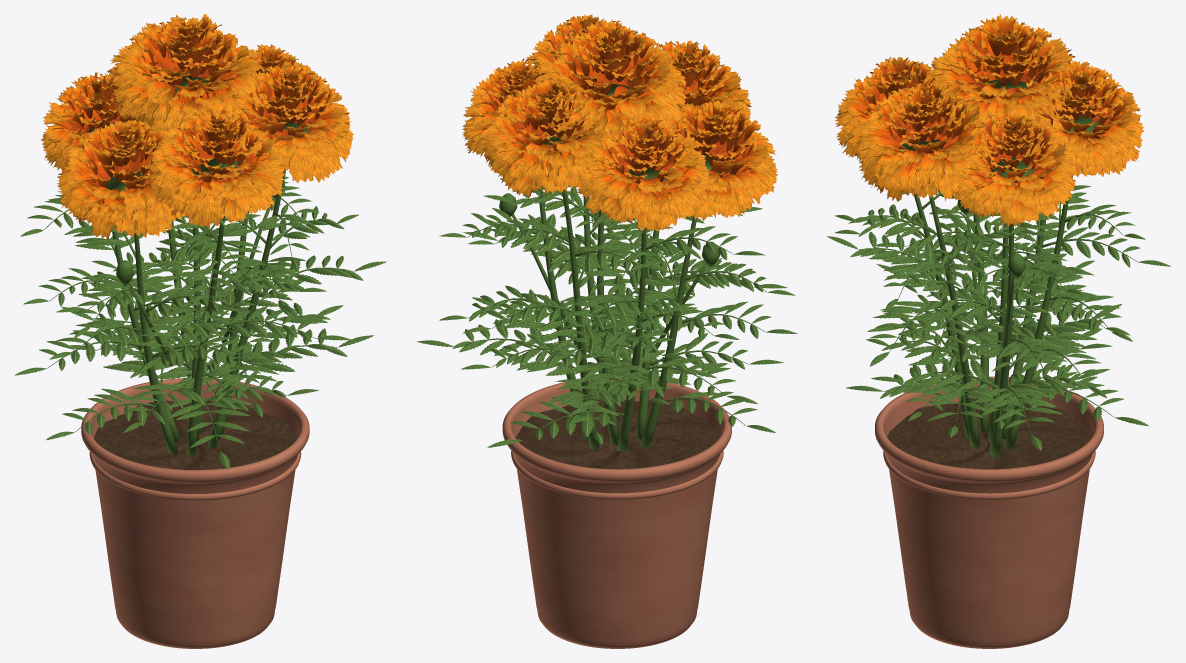
File: maceta_cempasuchil.gltf
The picture shows the model from 3 angles, left to right: view 1: azimuth 30°, elevation 25°; view 2: azimuth 150°, elevation 25°; view 3: azimuth 270°, elevation 25°; orthographic projection.
Visible parts, largest first — view 1: Maceta_cuerpo_hueco, Tierra_superficie, Flor_01_Capa_03, Flor_06_Capa_03, Flor_01_Capa_05, Flor_06_Capa_04, Flor_01_Capa_04, Flor_06_Capa_05, Flor_01_Capa_06, Flor_05_Capa_03, Flor_07_Capa_05, Flor_06_Capa_02 (+63 smaller); view 2: Maceta_cuerpo_hueco, Tierra_superficie, Flor_04_Capa_03, Flor_01_Capa_05, Flor_01_Capa_03, Flor_03_Capa_03, Flor_03_Capa_02, Flor_04_Capa_02, Flor_03_Capa_04, Flor_01_Capa_04, Flor_01_Capa_06, Flor_04_Capa_05 (+63 smaller); view 3: Maceta_cuerpo_hueco, Tierra_superficie, Flor_01_Capa_05, Flor_07_Capa_04, Flor_01_Capa_04, Flor_07_Capa_03, Flor_02_Capa_03, Flor_07_Capa_05, Flor_02_Capa_04, Flor_01_Capa_06, Flor_01_Capa_03, Flor_02_Capa_02 (+68 smaller).
Part boxes in pixels (x1,y1,x2,y2): Maceta_cuerpo_hueco: (81, 378, 309, 648); Tierra_superficie: (94, 400, 296, 469); Flor_01_Capa_03: (111, 49, 262, 122); Flor_06_Capa_03: (147, 139, 284, 213); Flor_01_Capa_05: (124, 27, 250, 97); Flor_06_Capa_04: (151, 130, 281, 198); Flor_01_Capa_04: (116, 45, 259, 108); Flor_06_Capa_05: (159, 125, 273, 182); Flor_01_Capa_06: (136, 18, 238, 86); Flor_05_Capa_03: (57, 158, 174, 222); Flor_07_Capa_05: (232, 71, 343, 140); Flor_06_Capa_02: (148, 143, 282, 222); Maceta_cuerpo_hueco: (502, 379, 731, 648); Tierra_superficie: (515, 399, 719, 469); Flor_04_Capa_03: (578, 148, 709, 214); Flor_01_Capa_05: (546, 40, 672, 102); Flor_01_Capa_03: (533, 57, 686, 135); Flor_03_Capa_03: (483, 123, 619, 180); Flor_03_Capa_02: (486, 127, 618, 194); Flor_04_Capa_02: (577, 154, 707, 227); Flor_03_Capa_04: (486, 114, 611, 168); Flor_01_Capa_04: (536, 50, 681, 116); Flor_01_Capa_06: (558, 30, 659, 97); Flor_04_Capa_05: (592, 120, 698, 193); Maceta_cuerpo_hueco: (875, 376, 1103, 648); Tierra_superficie: (887, 398, 1091, 469); Flor_01_Capa_05: (942, 28, 1068, 102); Flor_07_Capa_04: (859, 117, 989, 171); Flor_01_Capa_04: (933, 49, 1075, 110); Flor_07_Capa_03: (856, 123, 991, 189); Flor_02_Capa_03: (956, 156, 1077, 211); Flor_07_Capa_05: (866, 88, 981, 162); Flor_02_Capa_04: (956, 138, 1073, 197); Flor_01_Capa_06: (954, 22, 1056, 86); Flor_01_Capa_03: (928, 52, 1072, 125); Flor_02_Capa_02: (950, 169, 1075, 223).
Size of the model in its own units: 0.2558 by 0.4319 by 0.2261.
Materials: 1 (1 with a texture image).
